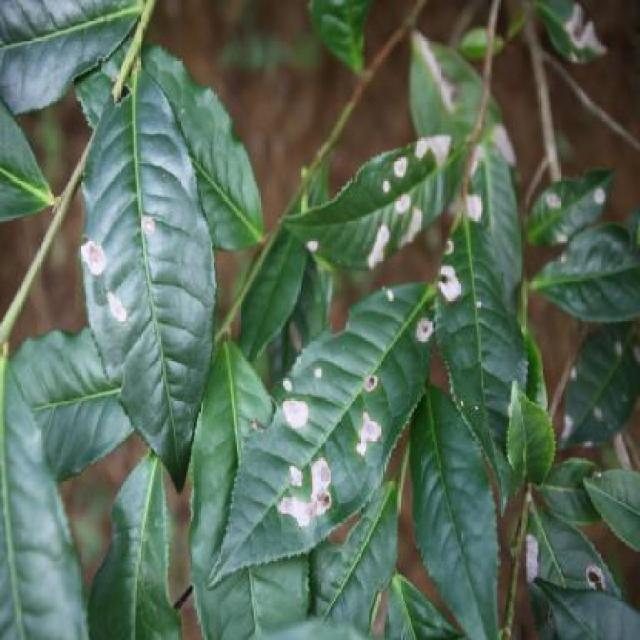Leaf rust of tea: (216, 284, 450, 576), (88, 131, 212, 449), (431, 217, 526, 475), (312, 144, 477, 282)
